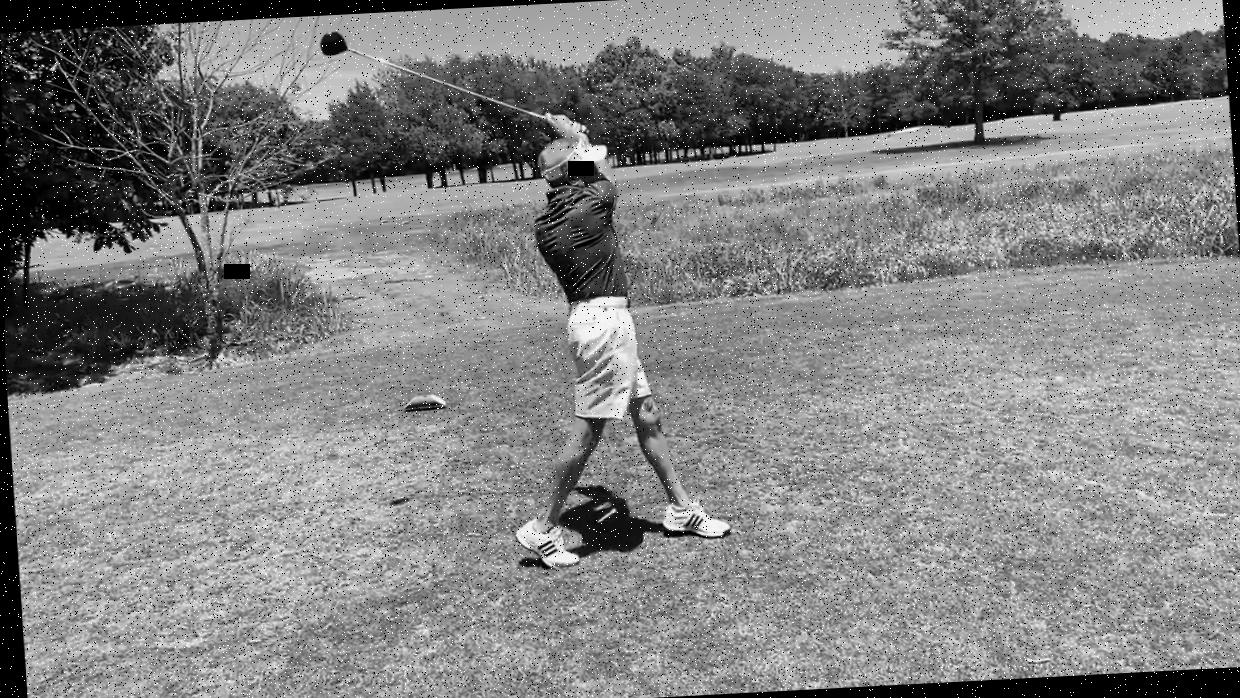ClubHead: (317, 25, 356, 62)
